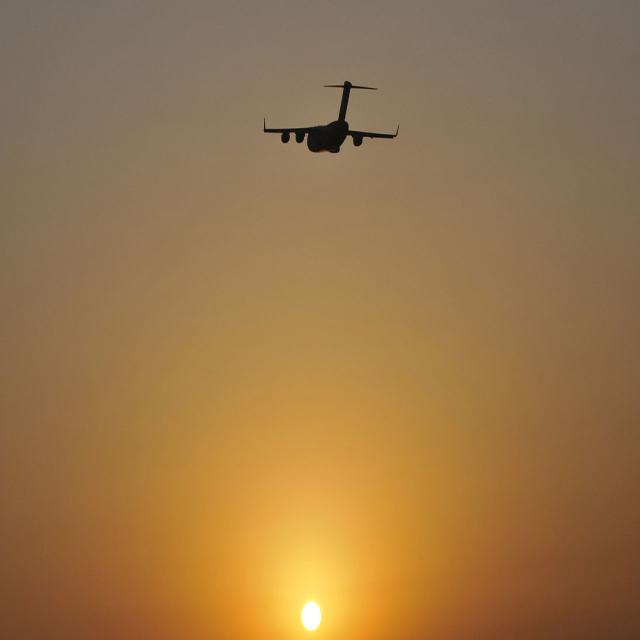MIL_Plane: (259, 80, 395, 153)
